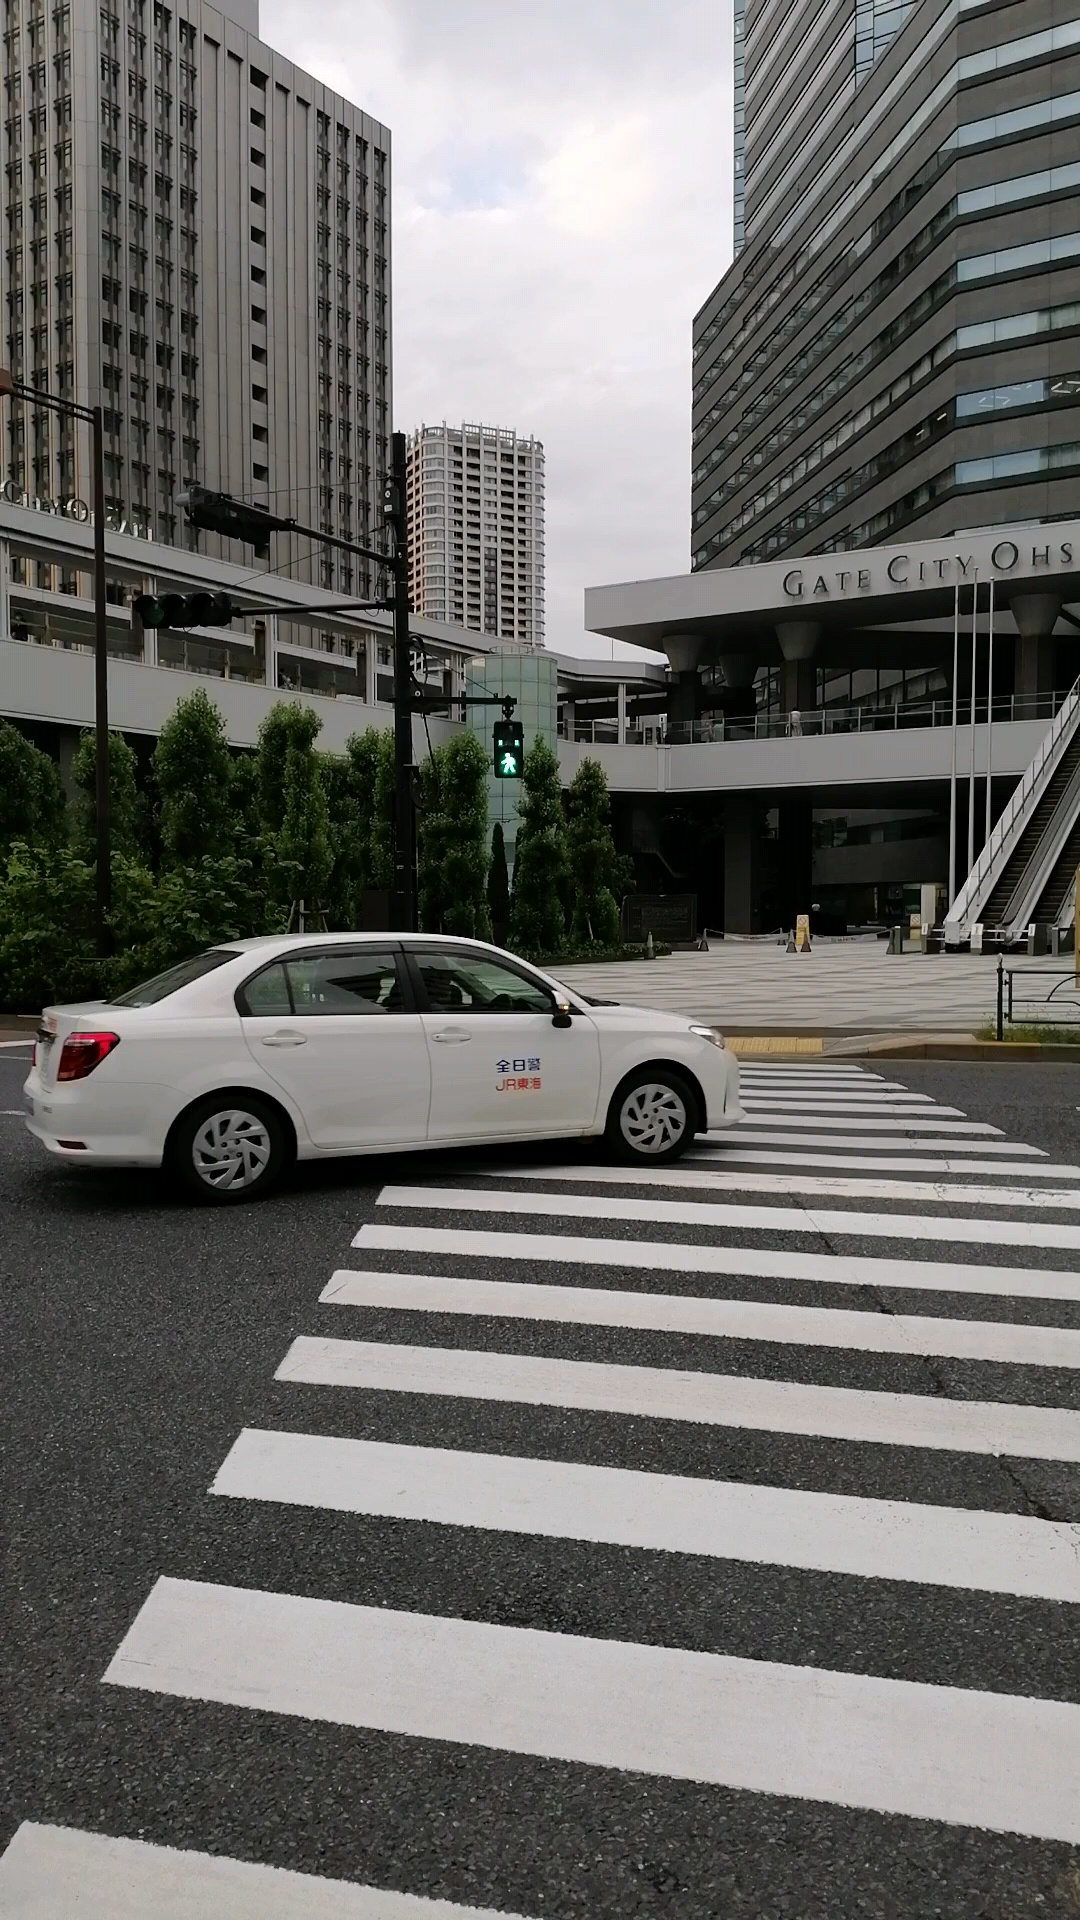green: (493, 721, 524, 778)
